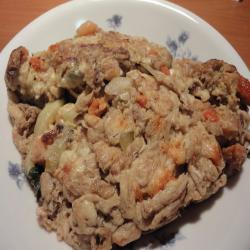omelette: (41, 98, 209, 209)
